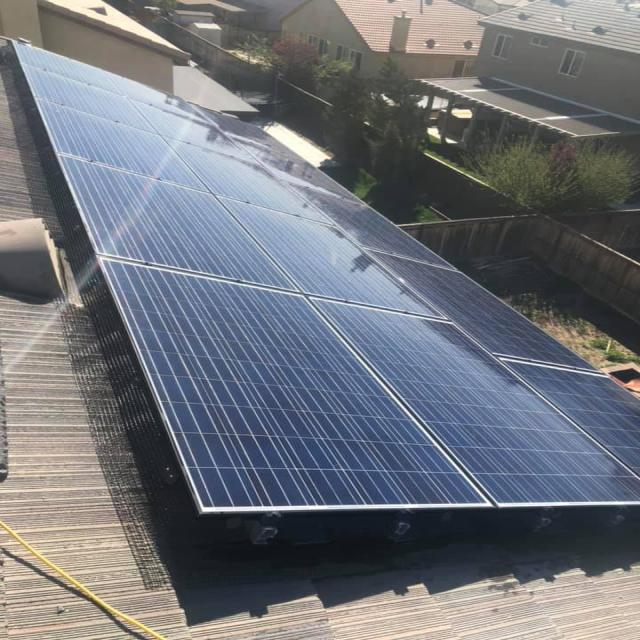clean-solar-panel: (14, 44, 637, 512)
